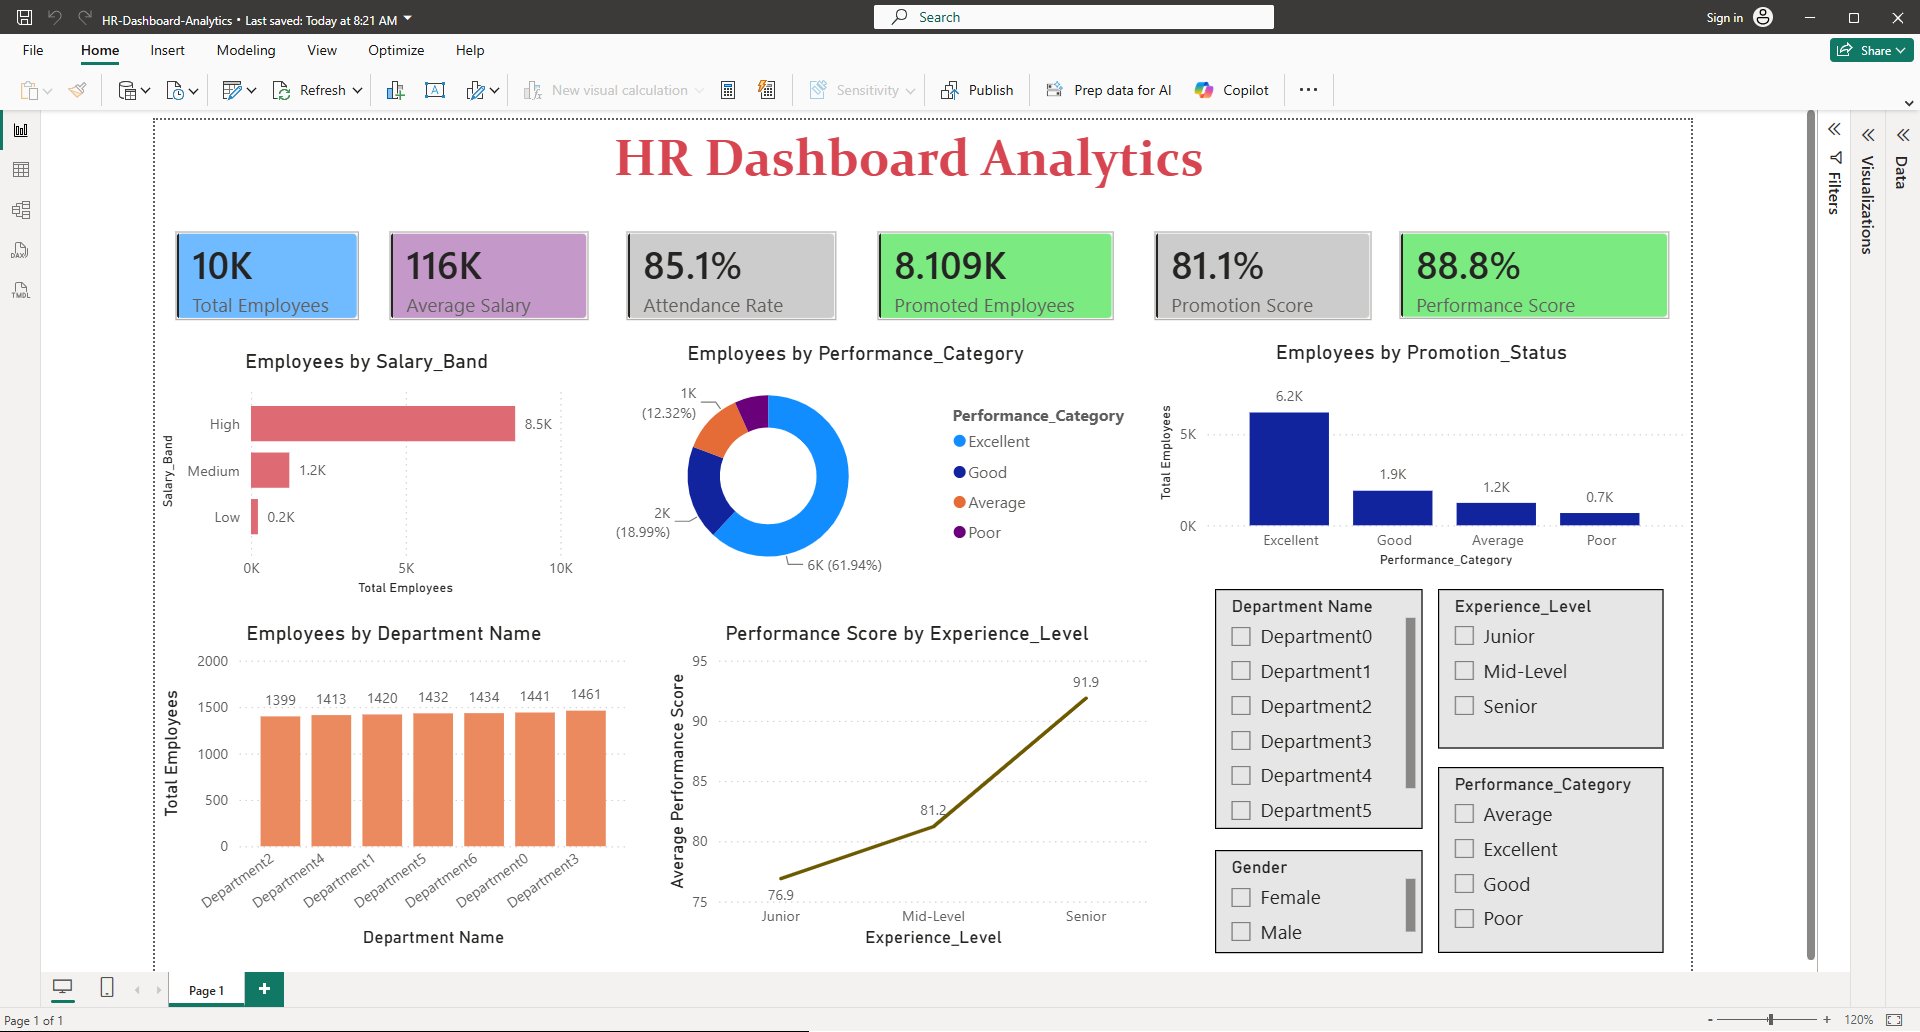

The page's visual inventory and layout, read from the dashboard file:
{"tool":"powerbi","page":{"name":"Page 1","canvas":[1280,720],"ordinal":0},"visuals":[{"type":"cardVisual","fields":{"Data":["Employee_Performance_Analytics.Promoted Employees"]},"box":[585,76,231,108],"z":0},{"type":"cardVisual","fields":{"Data":["Employee_Performance_Analytics.Total Employees"]},"box":[0,76,187,108],"z":1000},{"type":"cardVisual","fields":{"Data":["Avg(Employee_Performance_Analytics.Performance_Score(%))"]},"box":[1020,76.1,259.7,107.5],"z":2000},{"type":"cardVisual","fields":{"Data":["Avg(Employee_Performance_Analytics.Attendance_Rate(%))"]},"box":[376,76,209,108],"z":3000},{"type":"cardVisual","fields":{"Data":["Employee_Performance_Analytics.Promotion Score"]},"box":[816,76,215,108],"z":4000},{"type":"cardVisual","fields":{"Data":["Employee_Performance_Analytics.Average Salary"]},"box":[178,76,200,108],"z":5000},{"type":"textbox","box":[220,0,776,76],"z":6000},{"type":"donutChart","title":" Employees by Performance_Category","fields":{"Category":["Employee_Performance_Analytics.Performance_Category"],"Y":["Employee_Performance_Analytics.Total Employees"]},"box":[352.8,184.5,463,206],"z":7000},{"type":"columnChart","title":"Employees by Promotion_Status","fields":{"Y":["Employee_Performance_Analytics.Total Employees"],"Category":["Employee_Performance_Analytics.Performance_Category"]},"box":[831.9,183.6,447.8,193.4],"z":8000},{"type":"lineChart","title":" Performance Score by Experience_Level","fields":{"Category":["Employee_Performance_Analytics.Experience_Level"],"Y":["Employee_Performance_Analytics.Average Performance Score"]},"box":[421.8,417.3,410.1,276.7],"z":9000},{"type":"barChart","title":"Employees by Salary_Band","fields":{"Category":["Employee_Performance_Analytics.Salary_Band"],"Y":["Employee_Performance_Analytics.Total Employees"]},"box":[0,190.7,352.8,209.6],"z":10000},{"type":"clusteredColumnChart","title":"Employees by Department Name","fields":{"Y":["Employee_Performance_Analytics.Total Employees"],"Category":["Employee_Performance_Analytics.Department Name"]},"box":[0,417.3,398.5,276.7],"z":11000},{"type":"slicer","fields":{"Values":["Employee_Performance_Analytics.Gender"]},"box":[883,608.1,172.8,86],"z":12000},{"type":"slicer","fields":{"Values":["Employee_Performance_Analytics.Experience_Level"]},"box":[1069.3,390.4,188.1,132.5],"z":13000},{"type":"slicer","fields":{"Values":["Employee_Performance_Analytics.Performance_Category"]},"box":[1069.3,539.1,188.1,154.9],"z":14000},{"type":"slicer","fields":{"Values":["Employee_Performance_Analytics.Department Name"]},"box":[883,390.4,172.8,200],"z":15000}]}

Visuals, with their boxes on the page's 1280x720 design canvas (x1, y1, x2, y2). These are canvas units, not pixel positions in the 1920x1032 screenshot, which may show the page scaled, cropped or inside an application window:
cardVisual - Employee_Performance_Analytics.Promoted Employees: rect(585, 76, 816, 184)
cardVisual - Employee_Performance_Analytics.Total Employees: rect(0, 76, 187, 184)
cardVisual - Avg(Employee_Performance_Analytics.Performance_Score(%)): rect(1020, 76, 1280, 184)
cardVisual - Avg(Employee_Performance_Analytics.Attendance_Rate(%)): rect(376, 76, 585, 184)
cardVisual - Employee_Performance_Analytics.Promotion Score: rect(816, 76, 1031, 184)
cardVisual - Employee_Performance_Analytics.Average Salary: rect(178, 76, 378, 184)
textbox: rect(220, 0, 996, 76)
" Employees by Performance_Category" donutChart: rect(353, 184, 816, 390)
"Employees by Promotion_Status" columnChart: rect(832, 184, 1280, 377)
" Performance Score by Experience_Level" lineChart: rect(422, 417, 832, 694)
"Employees by Salary_Band" barChart: rect(0, 191, 353, 400)
"Employees by Department Name" clusteredColumnChart: rect(0, 417, 398, 694)
slicer - Employee_Performance_Analytics.Gender: rect(883, 608, 1056, 694)
slicer - Employee_Performance_Analytics.Experience_Level: rect(1069, 390, 1257, 523)
slicer - Employee_Performance_Analytics.Performance_Category: rect(1069, 539, 1257, 694)
slicer - Employee_Performance_Analytics.Department Name: rect(883, 390, 1056, 590)
